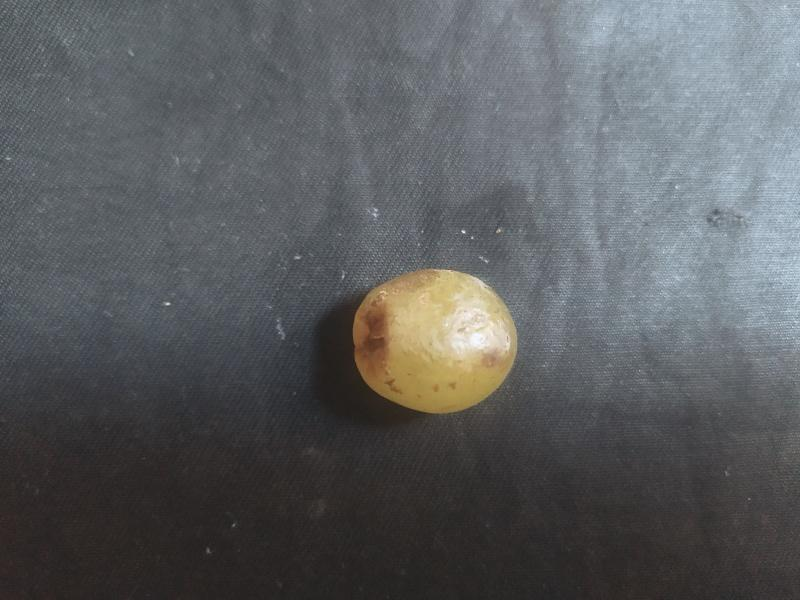Grape Rotten: (350, 264, 520, 417)
